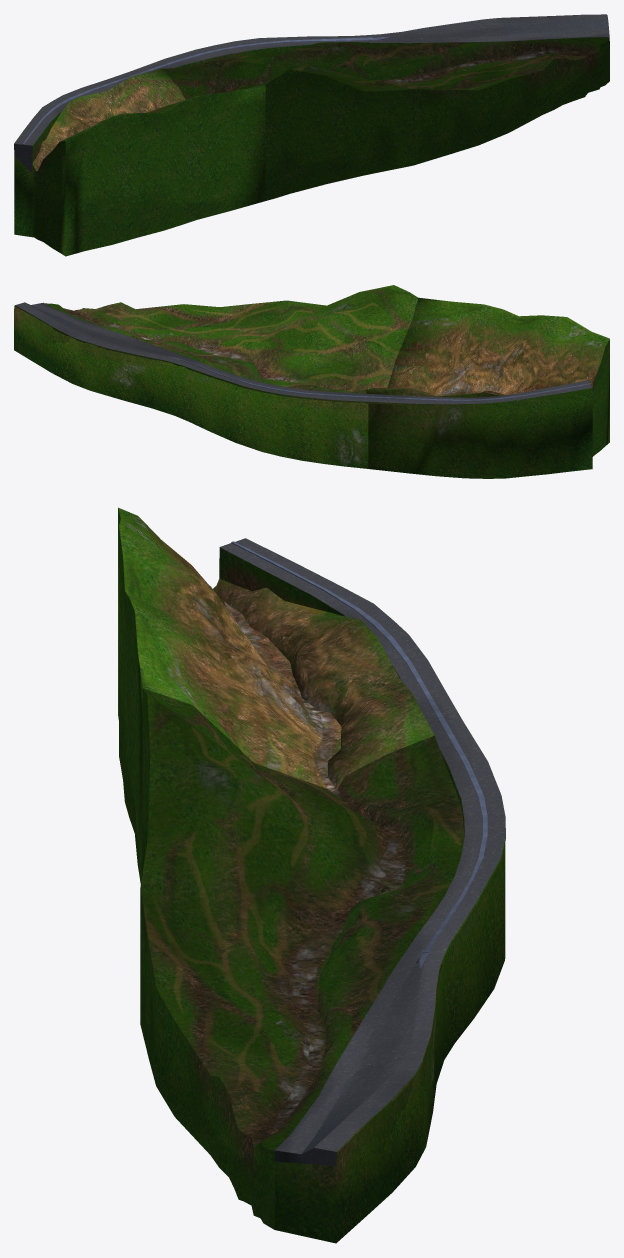
File: Terreno.fbx
3 views of the same model, one above another, from view 1: azimuth 30°, elevation 25°; view 2: azimuth 150°, elevation 25°; view 3: azimuth 270°, elevation 25° (orthographic). The views are drawn at different scales.
Visible parts, largest first — view 1: P1, P2; view 2: P1, P2; view 3: P1, P2.
Part boxes in pixels (<box>): P1: <box>140,14,609,200</box>; P2: <box>14,68,265,256</box>; P1: <box>14,285,417,468</box>; P2: <box>365,297,609,478</box>; P1: <box>140,688,505,1243</box>; P2: <box>118,507,468,884</box>.
Size of the model in its own units: 63407 by 12556 by 19164.
